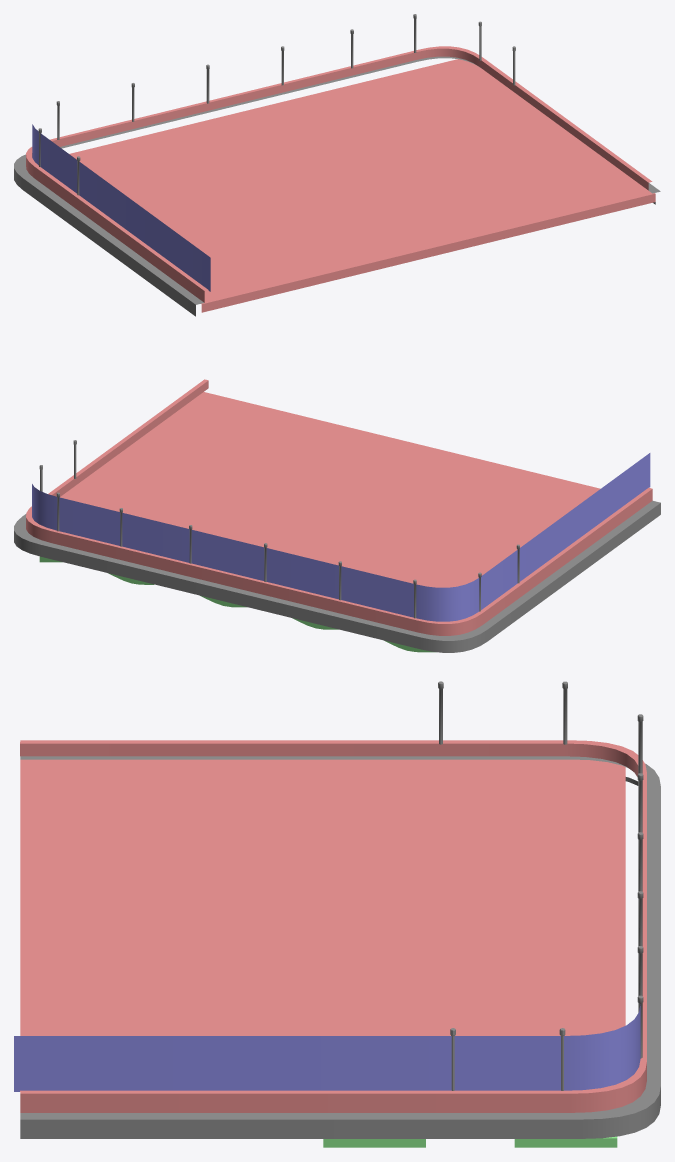
Rendered from S_Envi_Umeda_IndoorA1_b.gltf.
3 views of the same model, one above another, from view 1: azimuth 30°, elevation 25°; view 2: azimuth 150°, elevation 25°; view 3: azimuth 270°, elevation 25° (orthographic). The views are drawn at different scales.
Visible parts, largest first — view 1: S_Envi_Umeda_IndoorA1_b; view 2: S_Envi_Umeda_IndoorA1_b; view 3: S_Envi_Umeda_IndoorA1_b.
Part boxes in pixels (bbox=[...]): S_Envi_Umeda_IndoorA1_b: bbox=[14, 14, 660, 316]; S_Envi_Umeda_IndoorA1_b: bbox=[14, 379, 660, 652]; S_Envi_Umeda_IndoorA1_b: bbox=[14, 681, 660, 1147].
Size of the model in its own units: 10.18 by 1.69 by 7.59.
